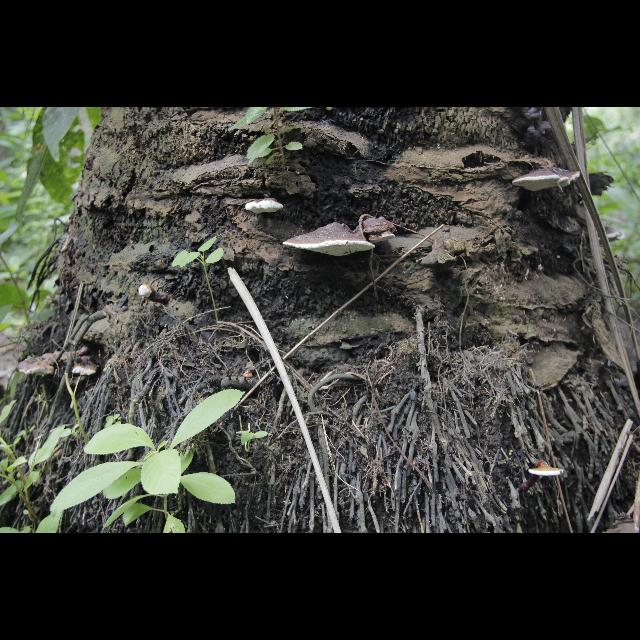ganoderma: (283, 222, 377, 258), (513, 167, 582, 193), (517, 462, 565, 495), (18, 353, 62, 377), (363, 217, 398, 245), (245, 199, 285, 216), (73, 356, 101, 377), (600, 227, 626, 243)
primordium: (139, 285, 155, 300)
